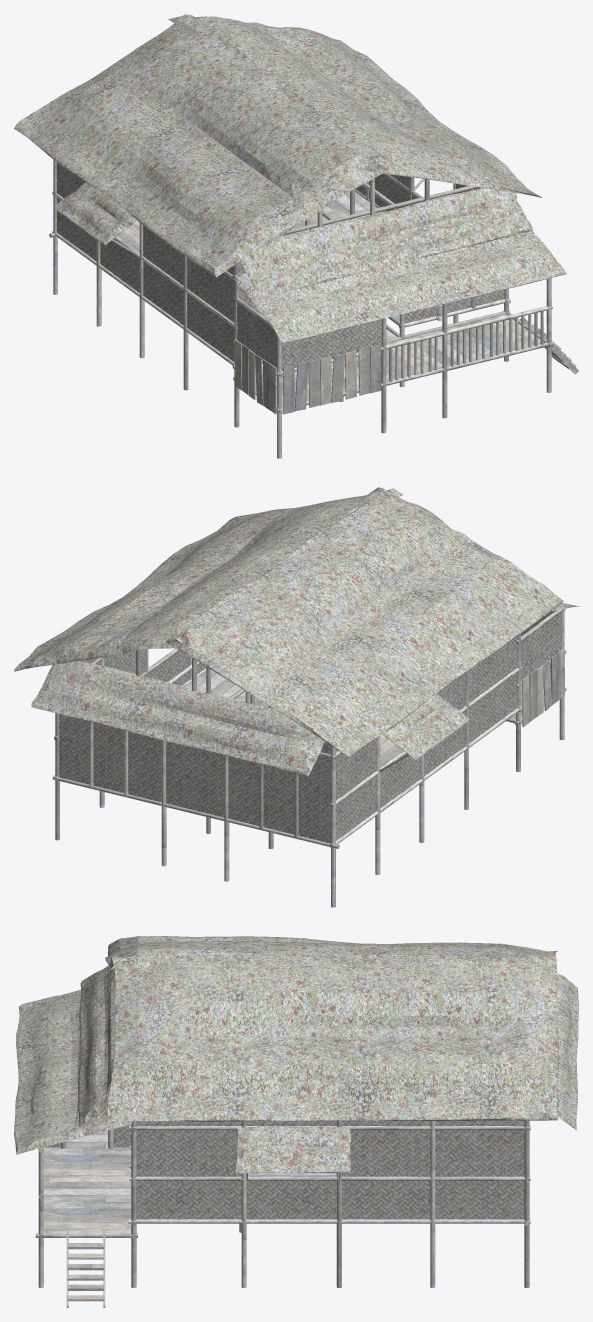
3 views of the same model, one above another, from view 1: azimuth 30°, elevation 25°; view 2: azimuth 150°, elevation 25°; view 3: azimuth 270°, elevation 25° (orthographic). The views are drawn at different scales.
Visible parts, largest first — view 1: Meshpart2, Meshpart7, Meshpart1, Meshpart3, Part159, Part154, Part188, Part223, Part222, Meshpart6, Part210, Part209 (+32 smaller); view 2: Meshpart2, Meshpart7, Part35, Part34, Meshpart4, Part159, Part154, Meshpart6, Part223, Part222, Part88, Part83 (+17 smaller); view 3: Meshpart7, Part9, Part8, Meshpart1, Part188, Part100, Part101, Meshpart2, Meshpart5, Part177, Part178, Meshpart3 (+12 smaller).
Part boxes in pixels (<box>): Meshpart2: <box>14,14,395,277</box>; Meshpart7: <box>168,15,541,197</box>; Meshpart1: <box>231,220,566,342</box>; Meshpart3: <box>240,187,532,298</box>; Part159: <box>56,198,234,361</box>; Part154: <box>57,198,234,361</box>; Part188: <box>255,314,544,406</box>; Part223: <box>143,225,234,322</box>; Part222: <box>143,225,234,322</box>; Meshpart6: <box>53,182,136,245</box>; Part210: <box>282,319,381,370</box>; Part209: <box>282,319,381,370</box>; Meshpart2: <box>166,487,563,757</box>; Meshpart7: <box>14,488,402,671</box>; Part35: <box>59,714,330,843</box>; Part34: <box>59,714,330,843</box>; Meshpart4: <box>31,661,325,776</box>; Part159: <box>336,673,517,840</box>; Part154: <box>336,673,517,840</box>; Meshpart6: <box>382,693,469,759</box>; Part223: <box>437,636,517,710</box>; Part222: <box>437,637,517,709</box>; Part88: <box>521,612,561,681</box>; Part83: <box>521,612,561,681</box>; Meshpart7: <box>107,954,561,1121</box>; Part9: <box>136,1181,524,1219</box>; Part8: <box>136,1181,524,1219</box>; Meshpart1: <box>14,989,131,1154</box>; Part188: <box>44,1130,131,1233</box>; Part100: <box>342,1130,524,1176</box>; Part101: <box>342,1130,524,1176</box>; Meshpart2: <box>105,936,557,972</box>; Meshpart5: <box>236,1126,351,1173</box>; Part177: <box>136,1130,241,1176</box>; Part178: <box>136,1130,241,1176</box>; Meshpart3: <box>78,965,110,1126</box>.
Size of the model in its own units: 28.31 by 18.49 by 35.85.
Materials: 9 (9 with a texture image).
